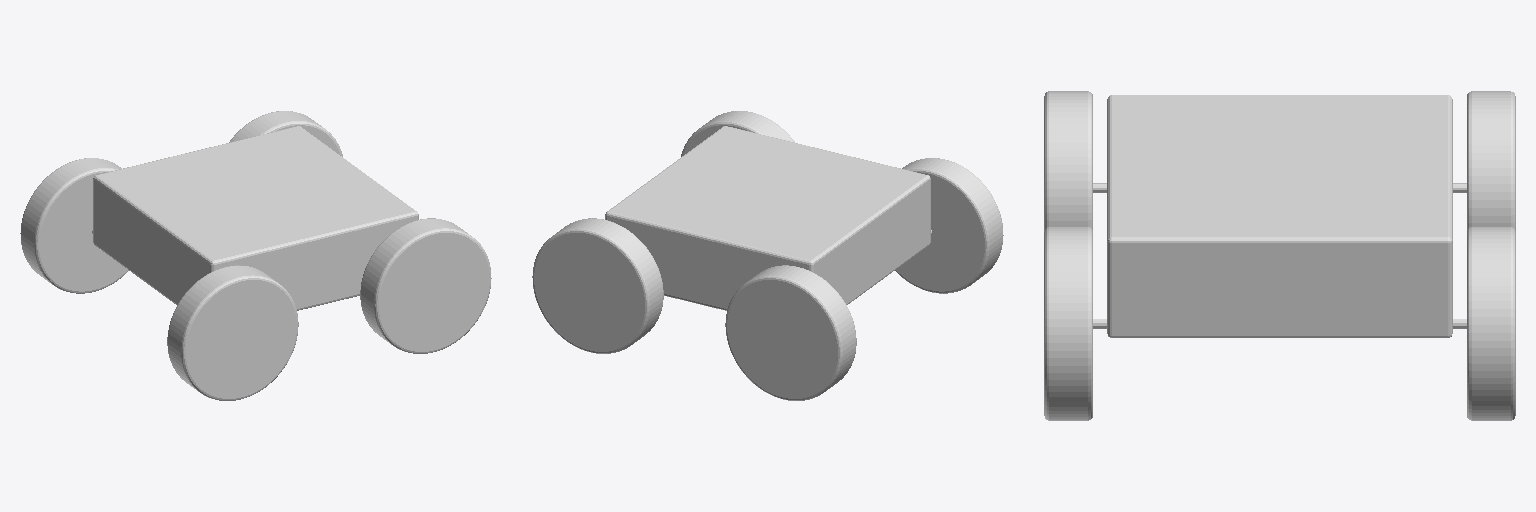
URDF robot description (mobile_robot_urdf_learning):
<?xml version="1.0" encoding="utf-8"?>
<!-- This URDF was automatically created by SolidWorks to URDF Exporter! Originally created by Stephen Brawner (brawner@gmail.com) 
     Commit Version: 1.6.0-4-g7f85cfe  Build Version: 1.6.7995.38578
     For more information, please see http://wiki.ros.org/sw_urdf_exporter -->
<robot
  name="mobile_robot_urdf_learning">
  <link
    name="base_link">
    <inertial>
      <origin
        xyz="2.22044604925031E-16 0 -0.11504910016487"
        rpy="0 0 0" />
      <mass
        value="116.263363408155" />
      <inertia
        ixx="5.41231133370448"
        ixy="1.71735930055809E-16"
        ixz="5.50981564165212E-17"
        iyy="5.41041337515425"
        iyz="-3.04127902907885E-17"
        izz="9.79921269240122" />
    </inertial>
    <visual>
      <origin
        xyz="0 0 0"
        rpy="0 0 0" />
      <geometry>
        <mesh
          filename="package://mobile_bot_description/meshes/base_link.STL" />
      </geometry>
      <material
        name="">
        <color
          rgba="0.894117647058823 0.894117647058823 0.894117647058823 1" />
      </material>
    </visual>
    <collision>
      <origin
        xyz="0 0 0"
        rpy="0 0 0" />
      <geometry>
        <mesh
          filename="package://mobile_bot_description/meshes/base_link.STL" />
      </geometry>
    </collision>
  </link>
  <link
    name="wheel_BR">
    <inertial>
      <origin
        xyz="-4.44089209850063E-16 0.0499770261051298 2.22044604925031E-16"
        rpy="0 0 0" />
      <mass
        value="12.5057640888134" />
      <inertia
        ixx="0.134958791480988"
        ixy="-2.90113365733414E-17"
        ixz="2.33346550650993E-18"
        iyy="0.249240517870682"
        iyz="-5.18475927398714E-20"
        izz="0.134958791480988" />
    </inertial>
    <visual>
      <origin
        xyz="0 0 0"
        rpy="0 0 0" />
      <geometry>
        <mesh
          filename="package://mobile_bot_description/meshes/wheel_BR.STL" />
      </geometry>
      <material
        name="">
        <color
          rgba="0.894117647058823 0.894117647058823 0.894117647058823 1" />
      </material>
    </visual>
    <collision>
      <origin
        xyz="0 0 0"
        rpy="0 0 0" />
      <geometry>
        <mesh
          filename="package://mobile_bot_description/meshes/wheel_BR.STL" />
      </geometry>
    </collision>
  </link>
  <joint
    name="joint_BR"
    type="continuous">
    <origin
      xyz="-0.33022 -0.4853 -0.2046"
      rpy="0 0 0" />
    <parent
      link="base_link" />
    <child
      link="wheel_BR" />
    <axis
      xyz="0 1 0" />
  </joint>
  <link
    name="wheel_FR">
    <inertial>
      <origin
        xyz="0 0.0499770261051296 0"
        rpy="0 0 0" />
      <mass
        value="12.5057640888134" />
      <inertia
        ixx="0.134958791480988"
        ixy="-2.88991052456485E-17"
        ixz="-2.61437631274529E-17"
        iyy="0.249240517870682"
        iyz="-3.69592978872898E-19"
        izz="0.134958791480988" />
    </inertial>
    <visual>
      <origin
        xyz="0 0 0"
        rpy="0 0 0" />
      <geometry>
        <mesh
          filename="package://mobile_bot_description/meshes/wheel_FR.STL" />
      </geometry>
      <material
        name="">
        <color
          rgba="0.894117647058823 0.894117647058823 0.894117647058823 1" />
      </material>
    </visual>
    <collision>
      <origin
        xyz="0 0 0"
        rpy="0 0 0" />
      <geometry>
        <mesh
          filename="package://mobile_bot_description/meshes/wheel_FR.STL" />
      </geometry>
    </collision>
  </link>
  <joint
    name="joint_FR"
    type="continuous">
    <origin
      xyz="0.33022 -0.4853 -0.2046"
      rpy="0 0 0" />
    <parent
      link="base_link" />
    <child
      link="wheel_FR" />
    <axis
      xyz="0 1 0" />
  </joint>
  <link
    name="wheel_BL">
    <inertial>
      <origin
        xyz="0 -0.0499770261051293 0"
        rpy="0 0 0" />
      <mass
        value="12.5057640888134" />
      <inertia
        ixx="0.134958791480988"
        ixy="-1.96923347336916E-17"
        ixz="-2.06338177208852E-18"
        iyy="0.249240517870681"
        iyz="-2.27266074243323E-20"
        izz="0.134958791480988" />
    </inertial>
    <visual>
      <origin
        xyz="0 0 0"
        rpy="0 0 0" />
      <geometry>
        <mesh
          filename="package://mobile_bot_description/meshes/wheel_BL.STL" />
      </geometry>
      <material
        name="">
        <color
          rgba="0.894117647058823 0.894117647058823 0.894117647058823 1" />
      </material>
    </visual>
    <collision>
      <origin
        xyz="0 0 0"
        rpy="0 0 0" />
      <geometry>
        <mesh
          filename="package://mobile_bot_description/meshes/wheel_BL.STL" />
      </geometry>
    </collision>
  </link>
  <joint
    name="joint_BL"
    type="continuous">
    <origin
      xyz="-0.33022 0.4853 -0.2046"
      rpy="0 0 0" />
    <parent
      link="base_link" />
    <child
      link="wheel_BL" />
    <axis
      xyz="0 1 0" />
  </joint>
  <link
    name="wheel_FL">
    <inertial>
      <origin
        xyz="0 -0.0499770261051293 0"
        rpy="0 0 0" />
      <mass
        value="12.5057640888134" />
      <inertia
        ixx="0.134958791480988"
        ixy="-1.80564889626253E-17"
        ixz="5.98724833448202E-18"
        iyy="0.249240517870681"
        iyz="-9.66140369210476E-19"
        izz="0.134958791480988" />
    </inertial>
    <visual>
      <origin
        xyz="0 0 0"
        rpy="0 0 0" />
      <geometry>
        <mesh
          filename="package://mobile_bot_description/meshes/wheel_FL.STL" />
      </geometry>
      <material
        name="">
        <color
          rgba="0.894117647058823 0.894117647058823 0.894117647058823 1" />
      </material>
    </visual>
    <collision>
      <origin
        xyz="0 0 0"
        rpy="0 0 0" />
      <geometry>
        <mesh
          filename="package://mobile_bot_description/meshes/wheel_FL.STL" />
      </geometry>
    </collision>
  </link>
  <joint
    name="joint_FL"
    type="continuous">
    <origin
      xyz="0.33022 0.4853 -0.2046"
      rpy="0 0 0" />
    <parent
      link="base_link" />
    <child
      link="wheel_FL" />
    <axis
      xyz="0 1 0" />
  </joint>
</robot>

--- What the picture shows (computed from the rendered views, not written in the file) ---
Views: 3 orthographic renders of the robot side by side, from view 1: azimuth 30°, elevation 25°; view 2: azimuth 150°, elevation 25°; view 3: azimuth 270°, elevation 25°.
Model mobile_robot_urdf_learning with 5 links and 4 joints (4 continuous), rooted at base_link, posed every joint at zero.
Links seen in each view (by area): view 1: base_link, wheel_FR, wheel_BR, wheel_BL, wheel_FL; view 2: base_link, wheel_BL, wheel_FL, wheel_BR, wheel_FR; view 3: base_link, wheel_FL, wheel_FR, wheel_BR, wheel_BL.
Boxes of the visible links, x1=… form: base_link: x1=92, y1=126, x2=418, y2=310; wheel_FR: x1=360, y1=218, x2=491, y2=353; wheel_BR: x1=167, y1=265, x2=298, y2=400; wheel_BL: x1=20, y1=158, x2=128, y2=293; wheel_FL: x1=229, y1=111, x2=342, y2=156; base_link: x1=605, y1=126, x2=931, y2=310; wheel_BL: x1=725, y1=265, x2=856, y2=400; wheel_FL: x1=532, y1=218, x2=663, y2=353; wheel_BR: x1=895, y1=158, x2=1003, y2=293; wheel_FR: x1=681, y1=111, x2=794, y2=156; base_link: x1=1093, y1=95, x2=1466, y2=337; wheel_FL: x1=1467, y1=227, x2=1515, y2=420; wheel_FR: x1=1044, y1=227, x2=1092, y2=420; wheel_BR: x1=1044, y1=91, x2=1092, y2=231; wheel_BL: x1=1467, y1=91, x2=1515, y2=230.
Size in the robot's own frame: 1.06 by 0.9706 by 0.4046 metres.
Meshes: 5 distinct files referenced, 5 mesh visuals loaded (5 binary STL).
